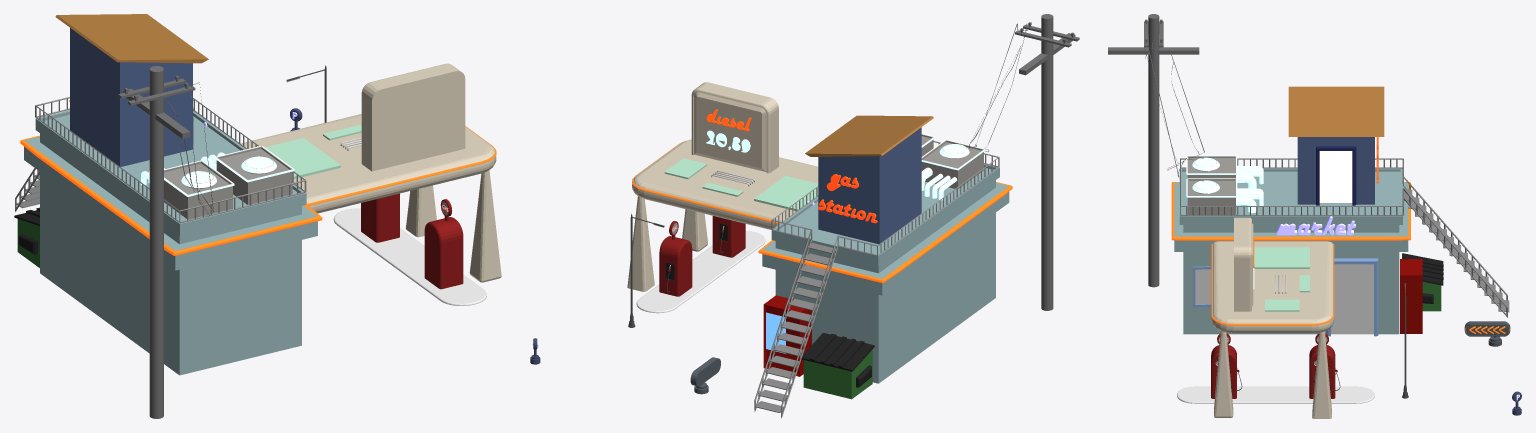
Rendered from gas.fbx.
3 views of the same model, side by side, from view 1: azimuth 30°, elevation 25°; view 2: azimuth 150°, elevation 25°; view 3: azimuth 270°, elevation 25° (orthographic). The views are drawn at different scales.
Parts seen in each view (by area): view 1: market, gas_sign, shack, gas_pump, electricity_pole, air_conditioning, bin; view 2: market, gas_sign, shack, gas_pump, electricity_pole, bin, air_conditioning, automat, signpost; view 3: market, gas_sign, shack, electricity_pole, gas_pump, air_conditioning, automat, bin, signpost.
Part boxes in pixels (left/top/right/bottom): market: left=15, top=97, right=322, bottom=375; gas_sign: left=240, top=63, right=501, bottom=282; shack: left=55, top=14, right=208, bottom=166; gas_pump: left=333, top=193, right=486, bottom=305; electricity_pole: left=118, top=66, right=213, bottom=418; air_conditioning: left=140, top=146, right=294, bottom=219; bin: left=14, top=207, right=39, bottom=267; market: left=754, top=141, right=1012, bottom=418; gas_sign: left=627, top=82, right=818, bottom=291; shack: left=805, top=115, right=933, bottom=244; gas_pump: left=636, top=216, right=765, bottom=313; electricity_pole: left=968, top=14, right=1079, bottom=310; bin: left=801, top=332, right=874, bottom=399; air_conditioning: left=921, top=133, right=985, bottom=200; automat: left=763, top=295, right=811, bottom=376; signpost: left=690, top=357, right=720, bottom=394; market: left=1171, top=158, right=1509, bottom=336; gas_sign: left=1211, top=217, right=1334, bottom=418; shack: left=1288, top=86, right=1384, bottom=205; electricity_pole: left=1108, top=14, right=1204, bottom=287; gas_pump: left=1177, top=333, right=1374, bottom=403; air_conditioning: left=1186, top=155, right=1263, bottom=214; automat: left=1400, top=259, right=1422, bottom=333; bin: left=1402, top=253, right=1443, bottom=311; signpost: left=1464, top=321, right=1510, bottom=346.
Size of the model in its own units: 1406 by 1110 by 1550.
